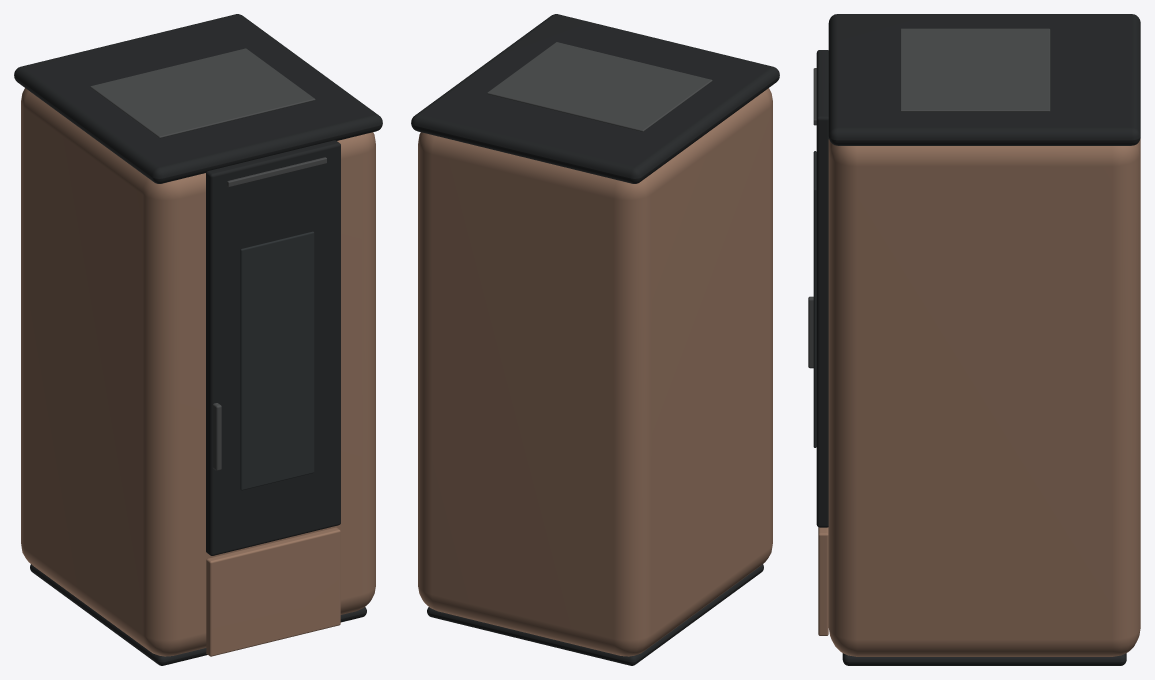
File: nordica-marina-idro-h13-bronzo.glb
3 renders of one model, left to right at view 1: azimuth 30°, elevation 25°; view 2: azimuth 150°, elevation 25°; view 3: azimuth 270°, elevation 25°, orthographic. The views are drawn at different scales.
Visible parts, largest first — view 1: Corpo arrotondato, Pannello porta, Coperchio superiore, Vetro porta, Pannello inferiore, Bocchetta superiore, Zoccolo, Fessura aria, Maniglia; view 2: Corpo arrotondato, Coperchio superiore, Bocchetta superiore, Zoccolo; view 3: Corpo arrotondato, Coperchio superiore, Bocchetta superiore, Pannello porta, Zoccolo, Pannello inferiore, Vetro porta.
Part boxes in pixels (x1,y1,x2,y2): Corpo arrotondato: (21,88,375,656); Pannello porta: (206,140,340,555); Coperchio superiore: (14,14,382,183); Vetro porta: (240,231,314,490); Pannello inferiore: (206,527,340,656); Bocchetta superiore: (90,48,315,138); Zoccolo: (30,564,366,665); Fessura aria: (227,157,326,187); Maniglia: (212,403,221,470); Corpo arrotondato: (418,88,772,656); Coperchio superiore: (411,14,779,183); Bocchetta superiore: (487,42,712,131); Zoccolo: (427,564,763,665); Corpo arrotondato: (828,138,1140,656); Coperchio superiore: (828,14,1140,145); Bocchetta superiore: (900,28,1050,111); Pannello porta: (816,50,828,527); Zoccolo: (842,653,1126,665); Pannello inferiore: (818,527,828,635); Vetro porta: (813,151,816,447).
Size of the model in its own units: 0.55 by 1.16 by 0.6404.
